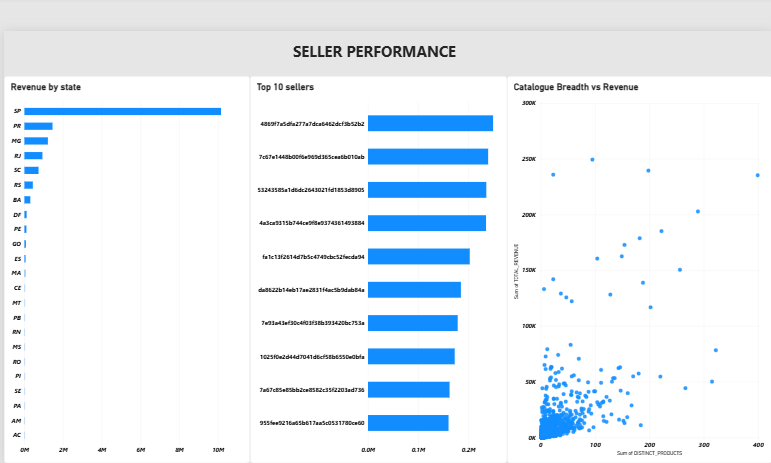

The dashboard page shown, as its layout file describes it:
{"tool":"powerbi","page":{"name":"Page 4","canvas":[1920,1080],"ordinal":3},"visuals":[{"type":"clusteredBarChart","title":"Revenue by state","fields":{"Category":["MART_SELLER_PERFORMANCE.SELLER_STATE"],"Y":["Sum(MART_SELLER_PERFORMANCE.TOTAL_REVENUE)"]},"box":[0,112.5,615,967.5],"z":0},{"type":"clusteredBarChart","title":"Top 10 sellers","fields":{"Category":["MART_SELLER_PERFORMANCE.SELLER_ID"],"Y":["Sum(MART_SELLER_PERFORMANCE.TOTAL_REVENUE)"]},"box":[615,112.5,642.5,967.5],"z":1},{"type":"scatterChart","title":"Catalogue Breadth vs Revenue","fields":{"Category":["MART_SELLER_PERFORMANCE.SELLER_ID"],"X":["Sum(MART_SELLER_PERFORMANCE.DISTINCT_PRODUCTS)"],"Y":["Sum(MART_SELLER_PERFORMANCE.TOTAL_REVENUE)"]},"box":[1257.5,112.5,662.5,967.5],"z":2},{"type":"textbox","box":[100,100,300,300],"z":3},{"type":"textbox","box":[722.5,25,620,57.5],"z":4}]}

Visuals, with their boxes on the page's 1920x1080 design canvas (x1, y1, x2, y2). These are canvas units, not pixel positions in the 771x463 screenshot, which may show the page scaled, cropped or inside an application window:
"Revenue by state" clusteredBarChart: {"x1": 0, "y1": 112, "x2": 615, "y2": 1080}
"Top 10 sellers" clusteredBarChart: {"x1": 615, "y1": 112, "x2": 1258, "y2": 1080}
"Catalogue Breadth vs Revenue" scatterChart: {"x1": 1258, "y1": 112, "x2": 1920, "y2": 1080}
textbox: {"x1": 100, "y1": 100, "x2": 400, "y2": 400}
textbox: {"x1": 722, "y1": 25, "x2": 1342, "y2": 82}
